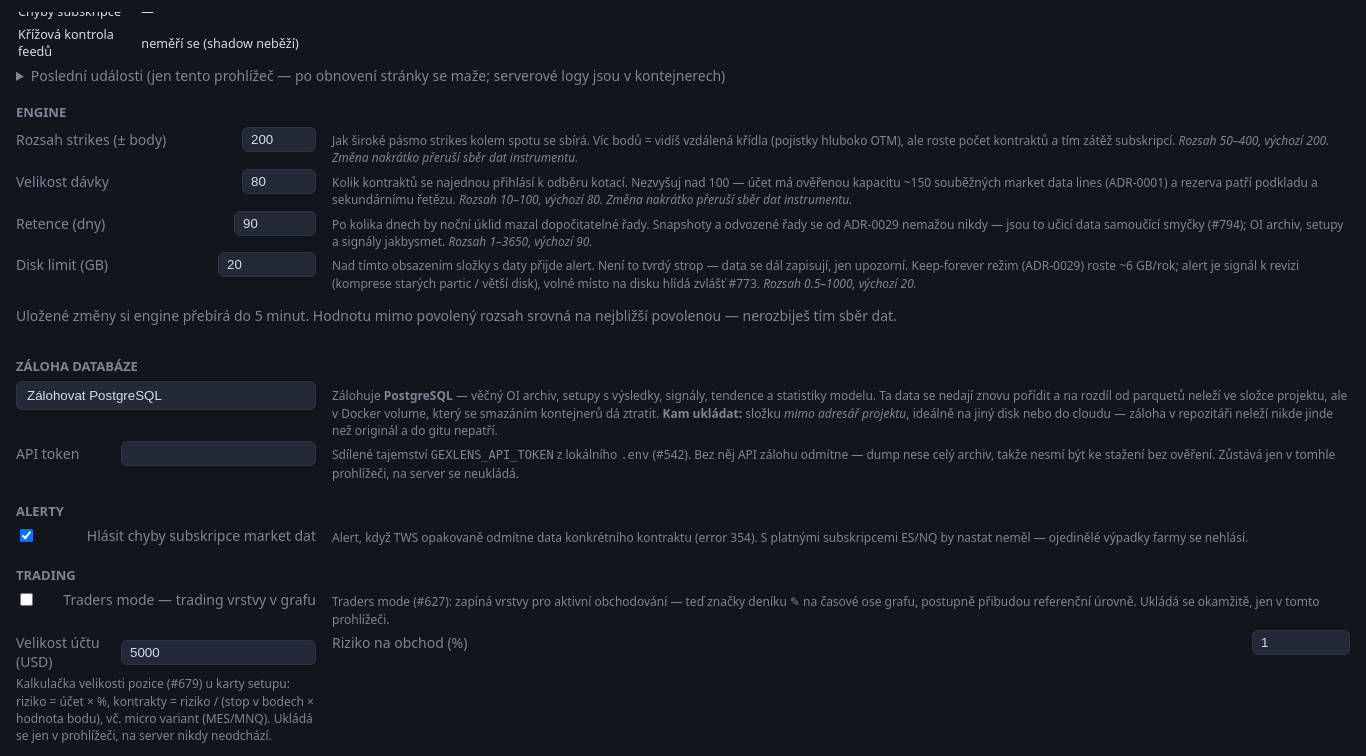
Test: skutečná chyba zálohy zůstává vidět (#506)
Click the button "Zálohovat PostgreSQL": (94, 396) [16, 381, 316, 410]
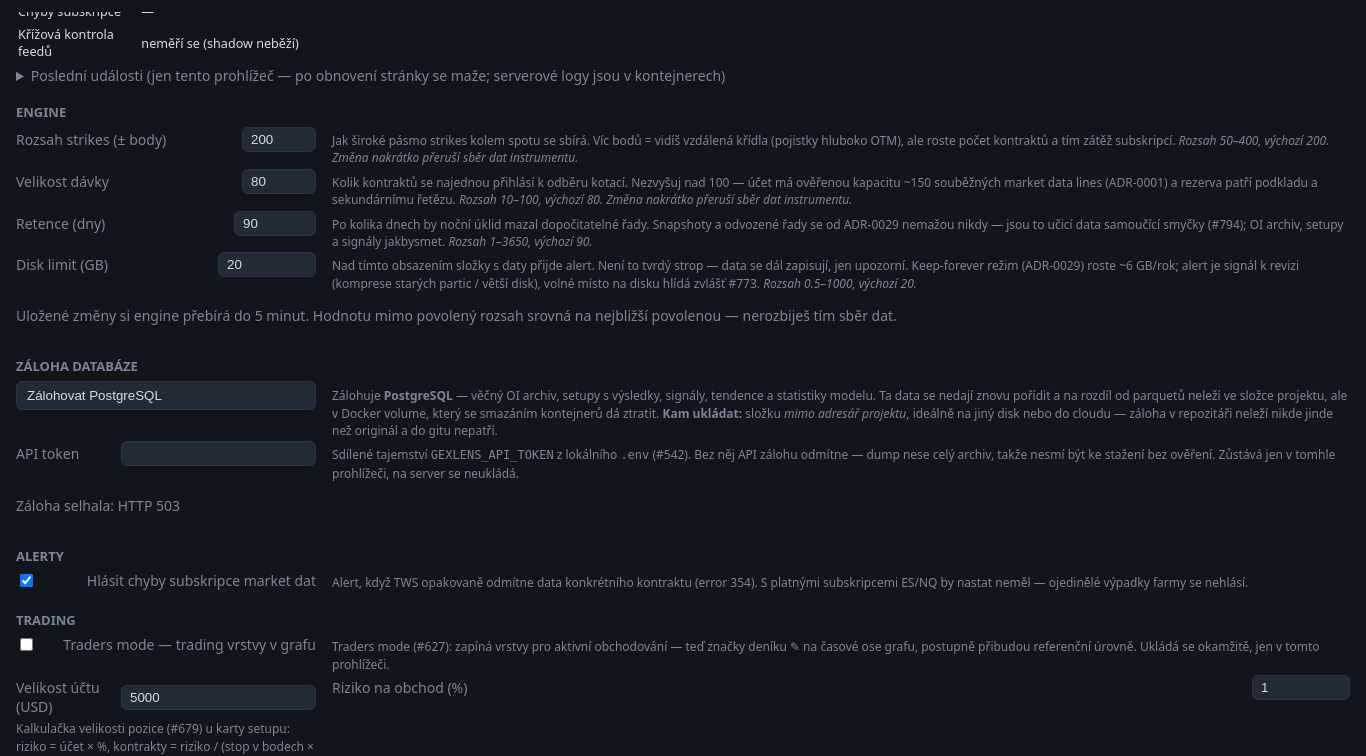
Expected: the text "Záloha selhala: HTTP 503" is shown, [16, 496, 180, 515]
